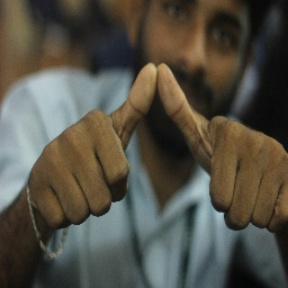A: (89, 56, 231, 216)
